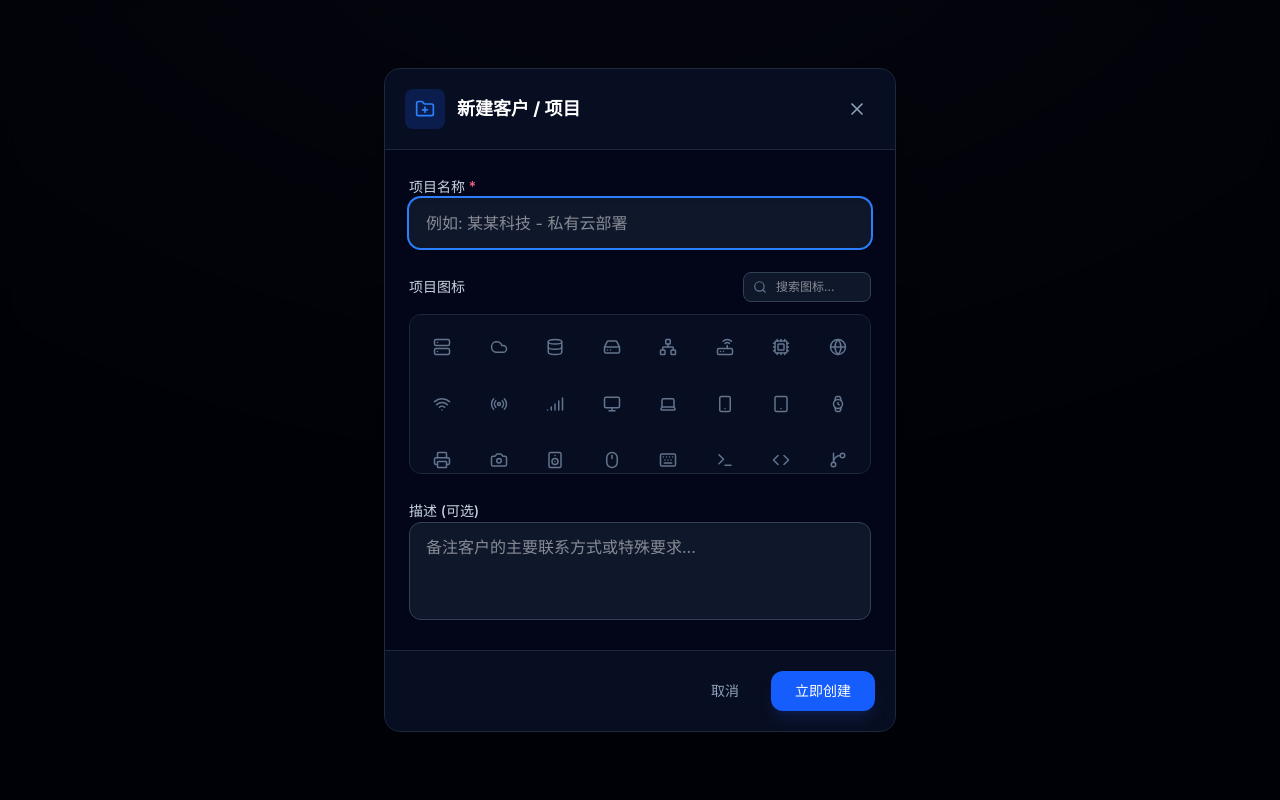
Test case: ProjectModal（T4） › 空名称 → 报错 toast 不提交
The image size is (1280, 800).
Step 1. Click the button "立即创建" → click(823, 691), box [771, 671, 875, 711]
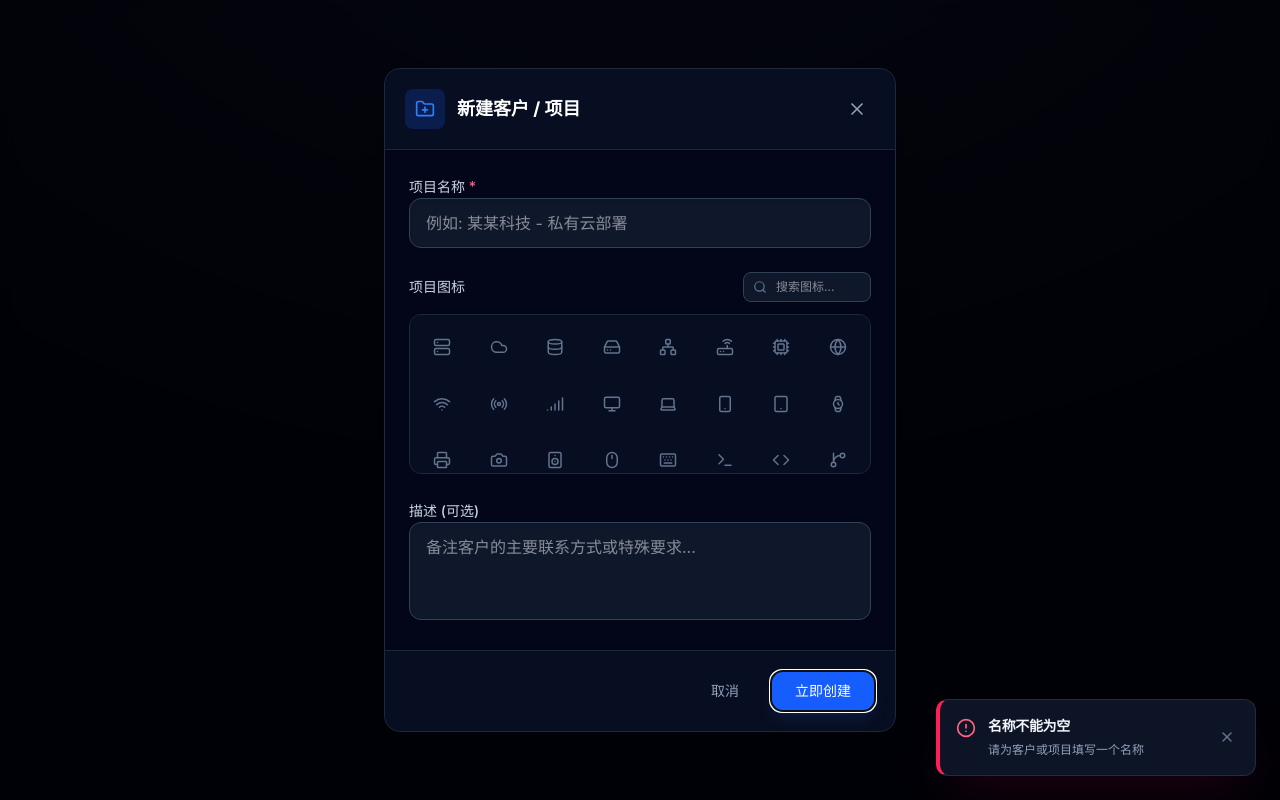
expect the heading "名称不能为空" is shown: met, box [988, 716, 1070, 734]
